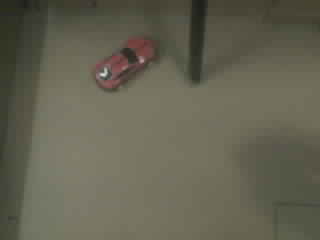Car: (94, 37, 155, 89)
